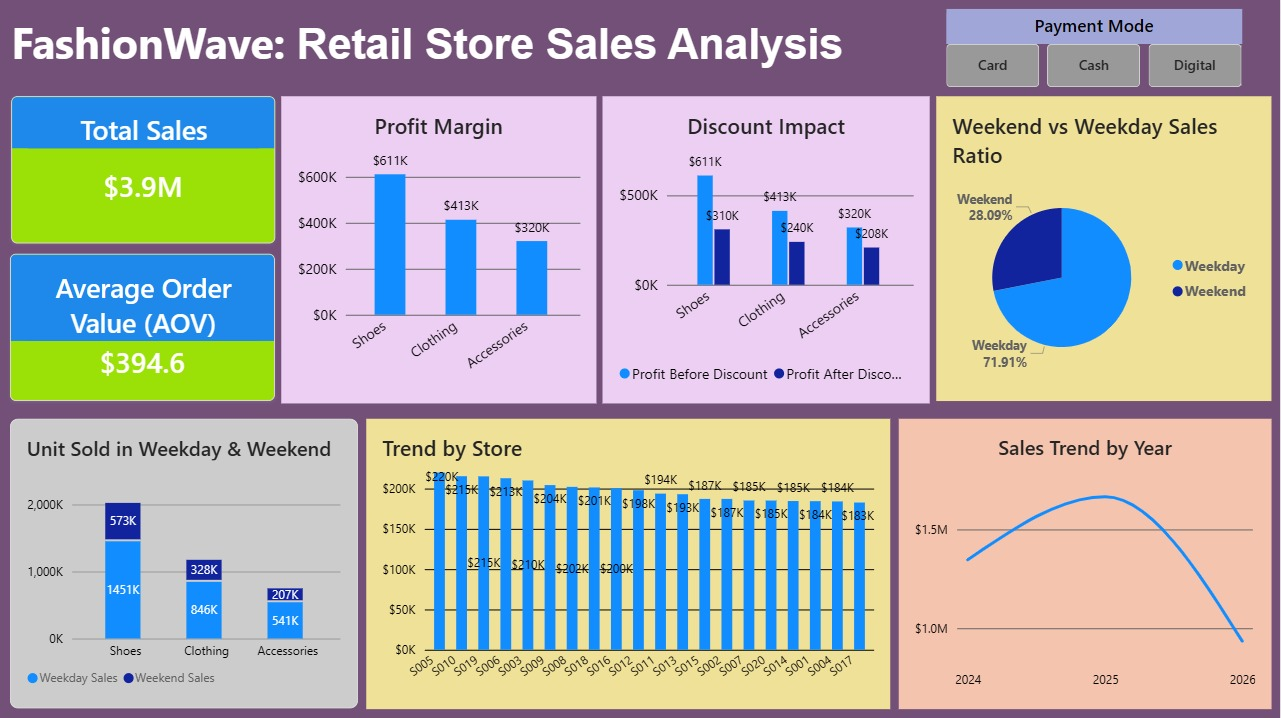

The page's visual inventory and layout, read from the dashboard file:
{"tool":"powerbi","page":{"name":"Page 1","canvas":[1280,720],"ordinal":0},"visuals":[{"type":"columnChart","title":"Trend by Store","fields":{"Category":["fashionwave_sales_fixed.StoreID"],"Y":["fashionwave_sales_fixed.Total Sales"]},"box":[366.2,418.8,523.8,290],"z":0},{"type":"lineChart","title":"Sales Trend by Year","fields":{"Y":["fashionwave_sales_fixed.Total Sales"],"Category":["fashionwave_sales_fixed.Date.Variation.Date Hierarchy.Year"]},"box":[898.8,418.8,372.5,290],"z":1000},{"type":"pieChart","title":"Weekend vs Weekday Sales Ratio","fields":{"Category":["fashionwave_sales_fixed.Day Type"],"Y":["fashionwave_sales_fixed.Total Sales"]},"box":[936.2,96.2,335,305],"z":2000},{"type":"card","title":"Average Order Value (AOV)","fields":{"Values":["fashionwave_sales_fixed.AOV"]},"box":[10,253.8,265,147.5],"z":3000},{"type":"textbox","box":[99.6,108.3,300.1,31.7],"z":4000},{"type":"textbox","box":[11.5,13,900.3,75],"z":5000},{"type":"card","title":"Total Sales","fields":{"Values":["fashionwave_sales_fixed.Total Sales"]},"box":[11.2,96.2,263.8,147.5],"z":6000},{"type":"advancedSlicerVisual","title":"Payment Mode","fields":{"Values":["fashionwave_sales_fixed.PaymentMode"]},"box":[946.5,8.7,295.8,79.4],"z":7000},{"type":"clusteredColumnChart","title":"Discount Impact","fields":{"Category":["fashionwave_sales_fixed.Category"],"Y":["fashionwave_sales_fixed.Profit Before Discount","fashionwave_sales_fixed.Profit After Discount"]},"box":[602.5,96.2,327.5,307.5],"z":8000},{"type":"columnChart","title":"Unit Sold in Weekday & Weekend","fields":{"Category":["fashionwave_sales_fixed.Category"],"Y":["fashionwave_sales_fixed.Weekday Sales","fashionwave_sales_fixed.Weekend Sales"]},"box":[10.1,418.4,347.7,290],"z":9000},{"type":"columnChart","title":"Profit Margin","fields":{"Category":["fashionwave_sales_fixed.Category"],"Y":["fashionwave_sales_fixed.Profit"]},"box":[281.2,96.2,315,307.5],"z":10000}]}

Visuals, with their boxes in screenshot pixels (x1, y1, x2, y2), scaled from the page's 1280x720 canvas onto the 1281x718 screenshot:
"Trend by Store" columnChart: (left=366, top=418, right=891, bottom=707)
"Sales Trend by Year" lineChart: (left=900, top=418, right=1272, bottom=707)
"Weekend vs Weekday Sales Ratio" pieChart: (left=937, top=96, right=1272, bottom=400)
"Average Order Value (AOV)" card: (left=10, top=253, right=275, bottom=400)
textbox: (left=100, top=108, right=400, bottom=140)
textbox: (left=12, top=13, right=913, bottom=88)
"Total Sales" card: (left=11, top=96, right=275, bottom=243)
"Payment Mode" advancedSlicerVisual: (left=947, top=9, right=1243, bottom=88)
"Discount Impact" clusteredColumnChart: (left=603, top=96, right=931, bottom=403)
"Unit Sold in Weekday & Weekend" columnChart: (left=10, top=417, right=358, bottom=706)
"Profit Margin" columnChart: (left=281, top=96, right=597, bottom=403)
